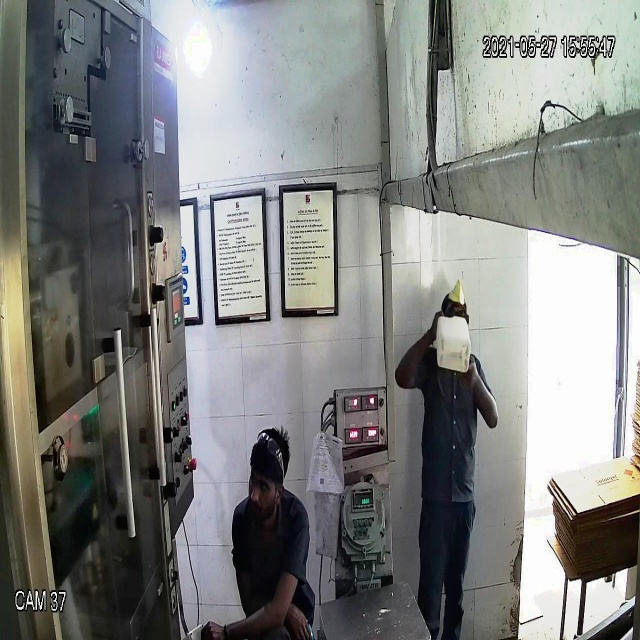Sin_gafas: (241, 465, 281, 500)
